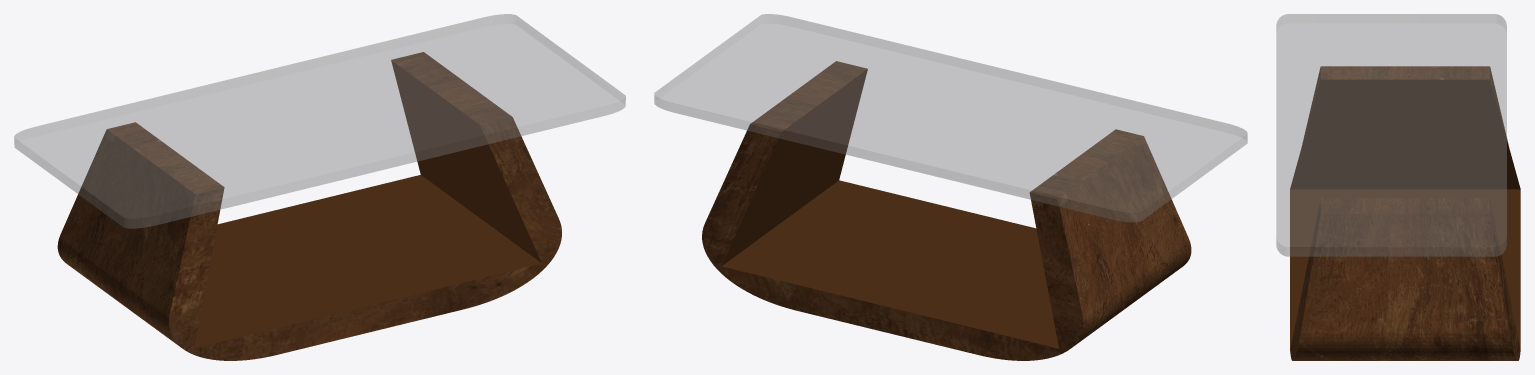
Rendered from newTable (1).glb.
3 views of the same model, side by side, from view 1: azimuth 30°, elevation 25°; view 2: azimuth 150°, elevation 25°; view 3: azimuth 270°, elevation 25° (orthographic). The views are drawn at different scales.
Visible parts, largest first — view 1: Cube, Plane; view 2: Cube, Plane; view 3: Cube, Plane.
Boxes of the visible parts, bbox=[...] form: Cube: bbox=[57, 52, 561, 360]; Plane: bbox=[14, 14, 625, 228]; Cube: bbox=[702, 61, 1191, 360]; Plane: bbox=[654, 14, 1247, 221]; Cube: bbox=[1290, 66, 1520, 360]; Plane: bbox=[1276, 14, 1506, 256].
Size of the model in its own units: 4.78 by 1.6 by 2.12.
Materials: 2 (1 with a texture image).
